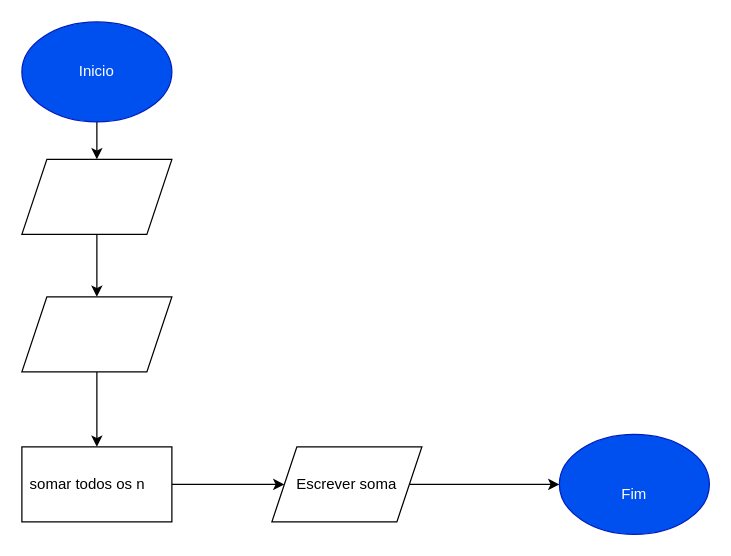
Image size: 731x556. Some labels were removed from this diagram. The centre of each missing label's shape, as x and y in pixels:
Escrever n: pixel 96 334
quantos n quere somar: pixel 96 196
